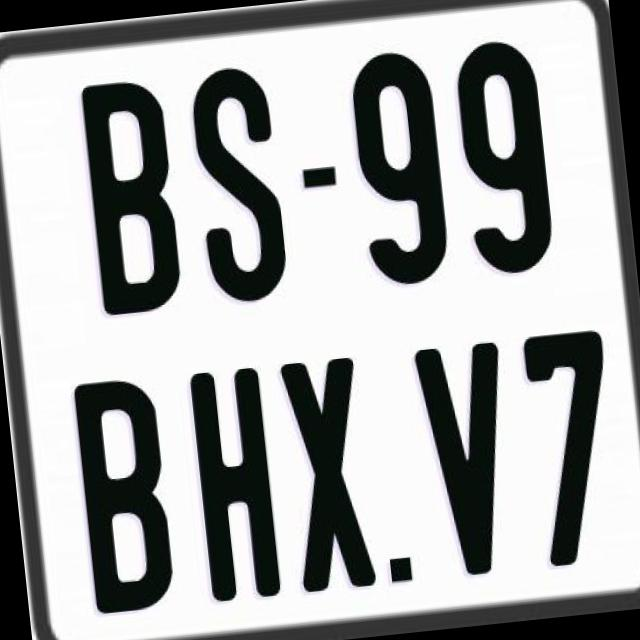7: (522, 330, 624, 574)
9: (452, 38, 557, 284), (346, 45, 450, 289)
B: (80, 75, 190, 317), (73, 371, 180, 613)
H: (186, 365, 284, 604)
S: (185, 60, 288, 306)
V: (412, 337, 520, 576)
X: (279, 354, 376, 590)
